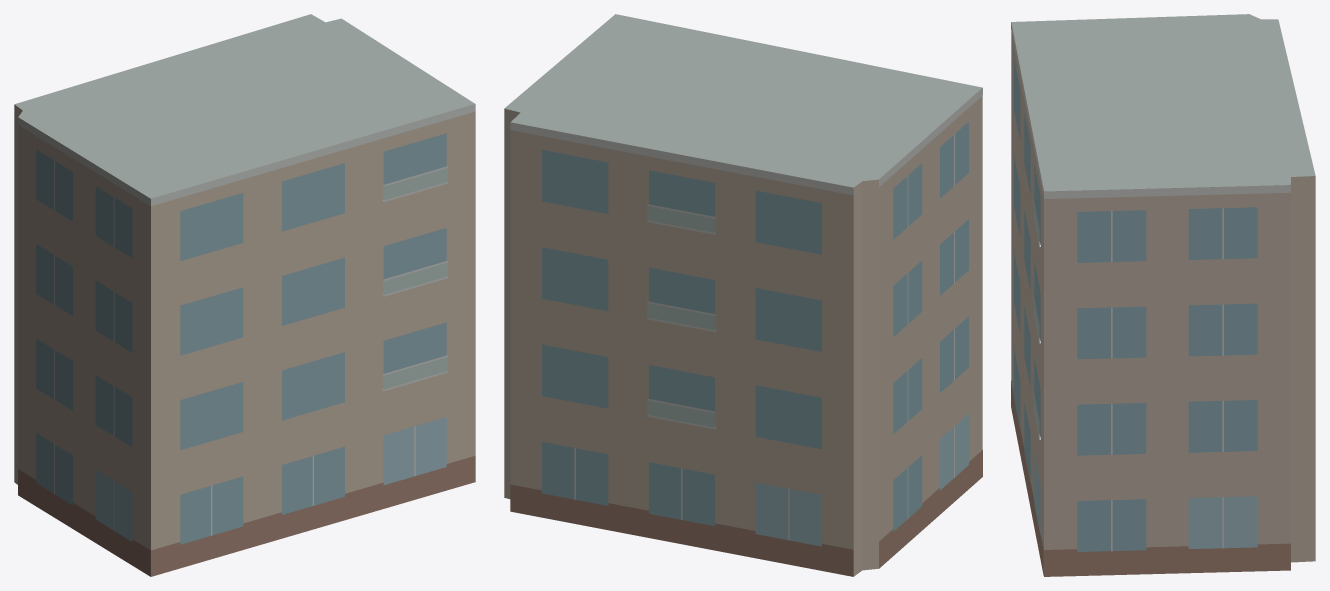
The model's file is survey-upis-32638824.glb.
3 renders of one model, left to right at view 1: azimuth 30°, elevation 25°; view 2: azimuth 150°, elevation 25°; view 3: azimuth 270°, elevation 25°, orthographic. The views are drawn at different scales.
Parts seen in each view (by area): view 1: survey-upis-32638824.tmp; view 2: survey-upis-32638824.tmp; view 3: survey-upis-32638824.tmp.
Part boxes in pixels (box(x1,y1,x2,y2)): survey-upis-32638824.tmp: box(14, 14, 475, 576); survey-upis-32638824.tmp: box(504, 14, 982, 576); survey-upis-32638824.tmp: box(1011, 14, 1315, 576).
Bounding box in the file's own units: 12.05 × 12.2 × 8.74.
